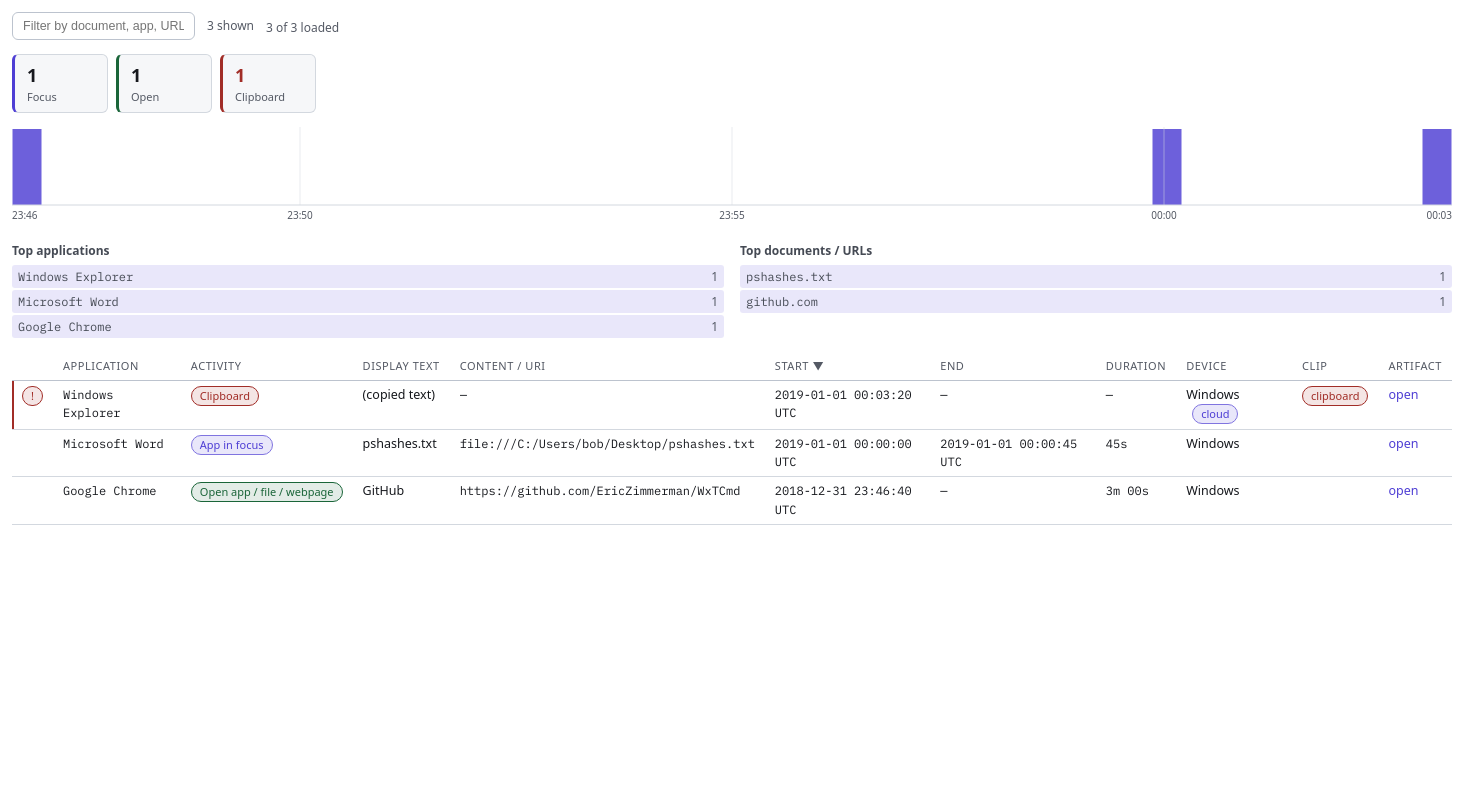
WindowsTimelineViewer › opens the detail panel and reveals decoded clipboard text on demand
Click the row with test id "an-wt-row" that starts with "Windows Explorer".
click(732, 406)  # box [12,381,1452,430]
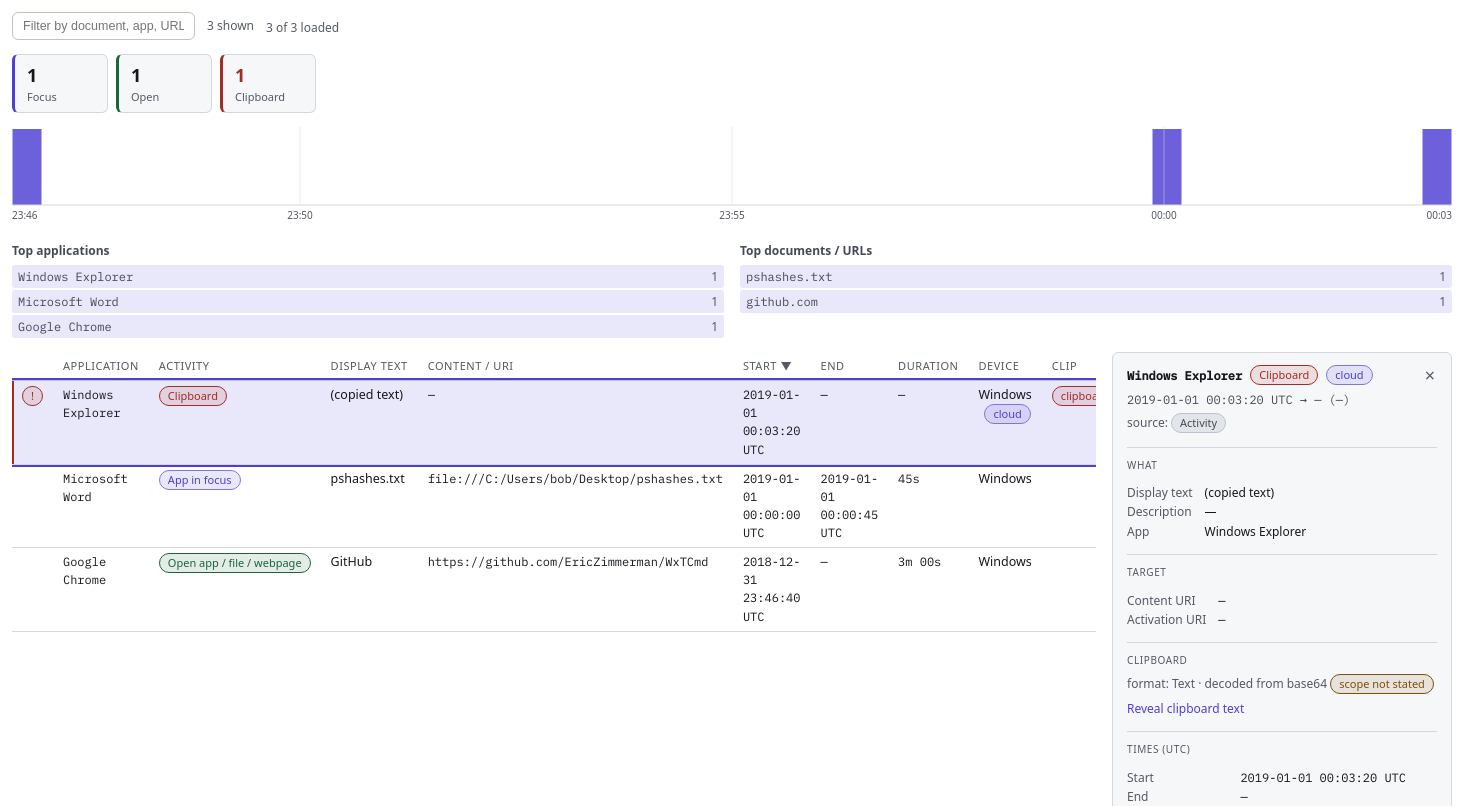
Expected: the text "hunter2" is not shown
Now the 2nd text "Windows Explorer" is shown, box [1127,366,1242,384]
Now the text "(copied text)" below "What" is shown, box [1205,484,1274,501]
Click the button "Reveal clipboard text".
click(1186, 708)  # box [1127,700,1244,717]
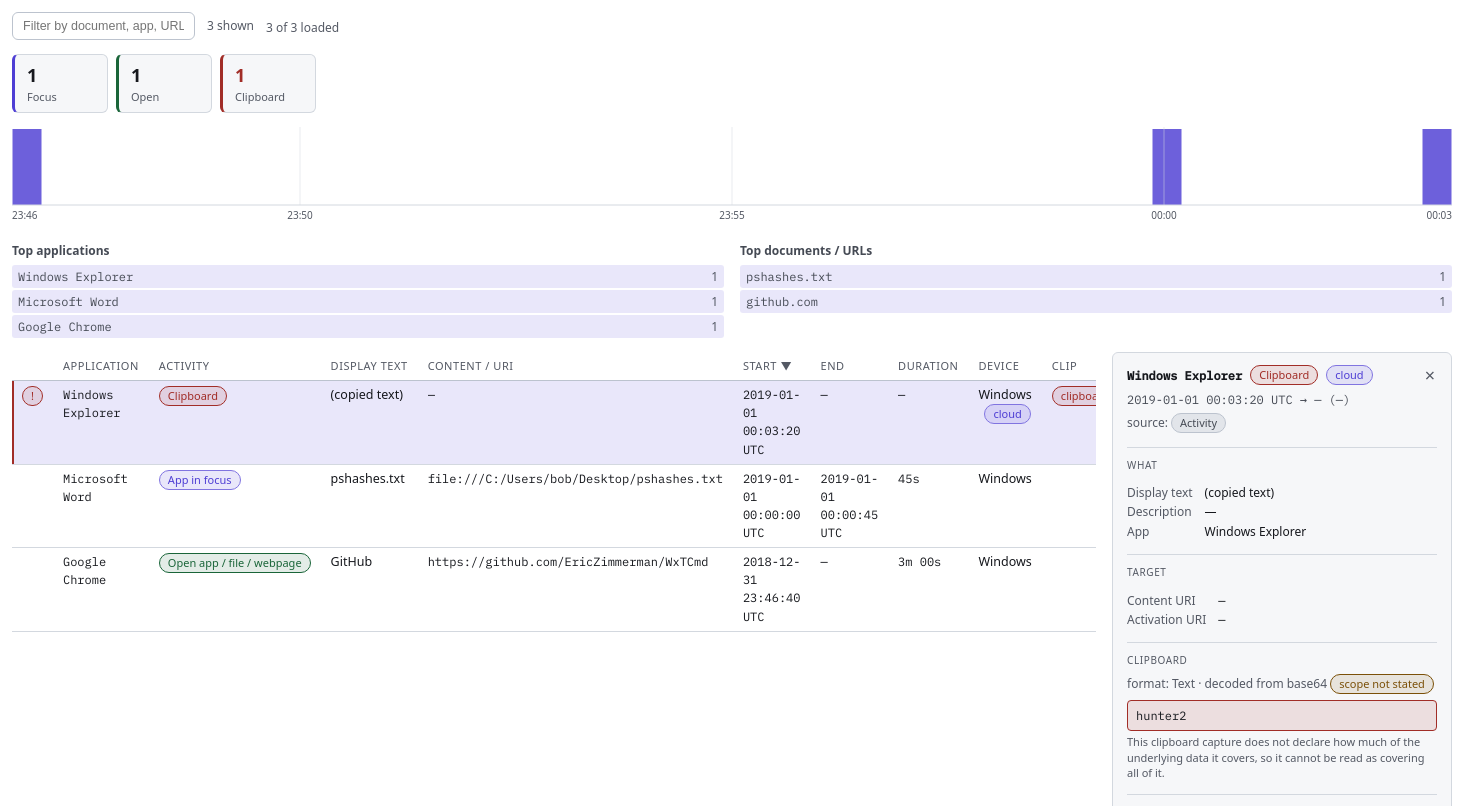
Now the text "hunter2" is shown, box [1127,700,1437,731]
